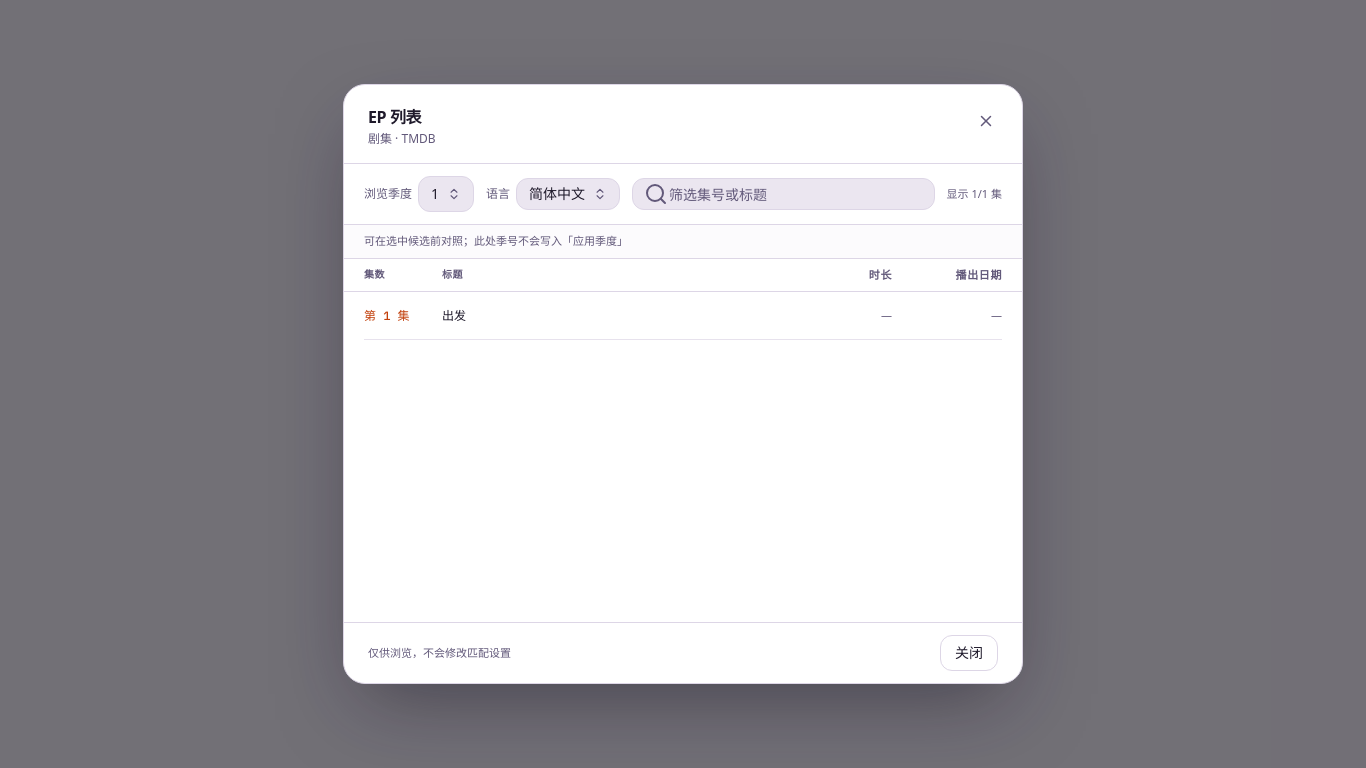
Test: episode browsing › aborts obsolete language requests and ignores a late result even if the loader returns it
The width and height of the screenshot is (1366, 768).
expect the text "出发" is shown: met, box [442,306,466,324]
Click the dropdown named "语言" at point(568, 194), box [516,178,620,210]
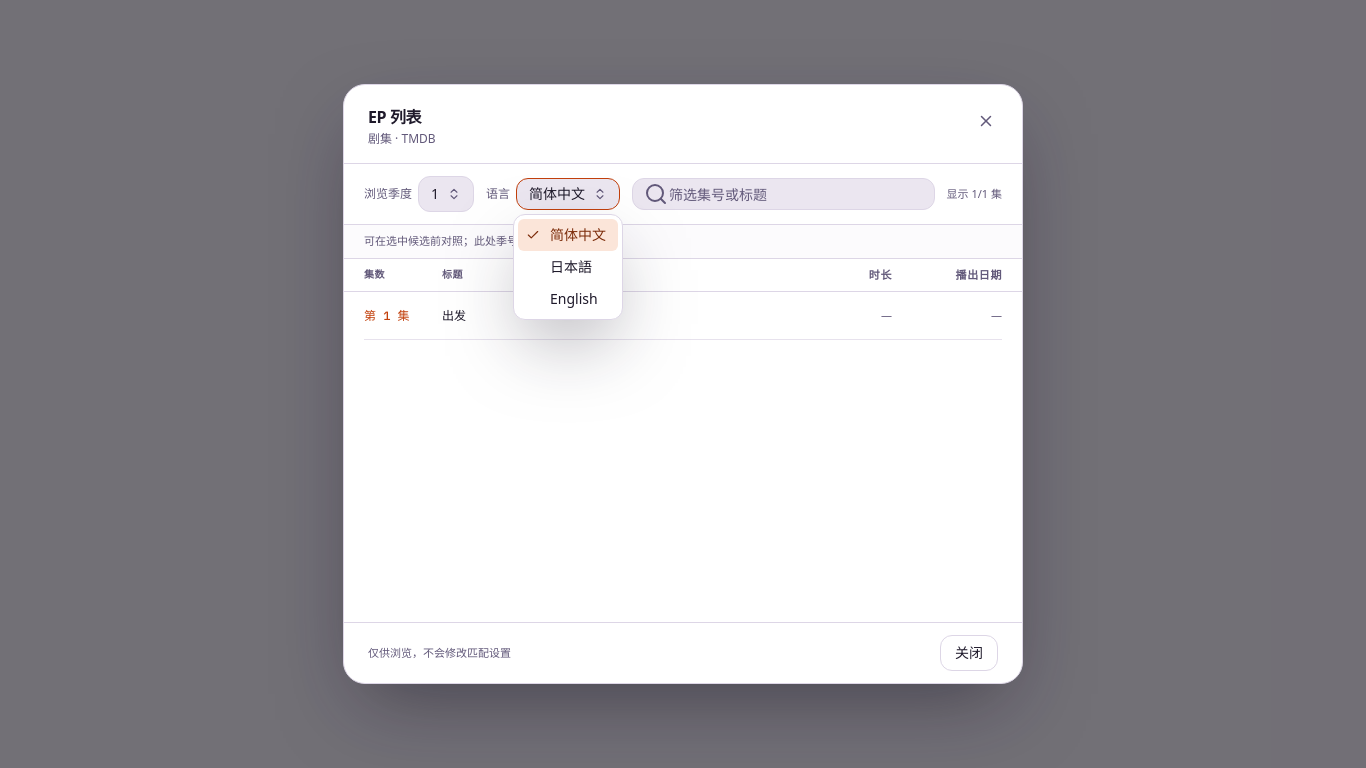
Click the option "日本語" at point(571, 266), box [550,257,592,276]
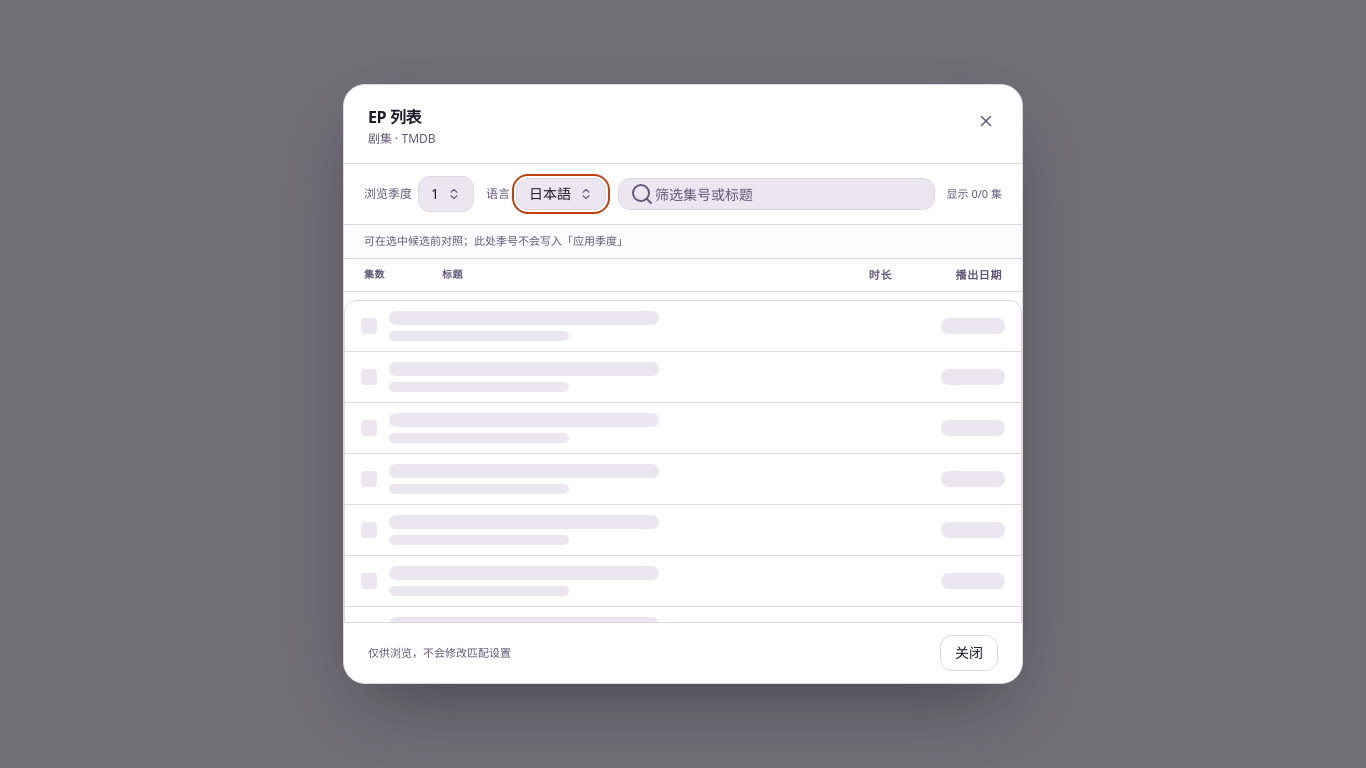
Click the dropdown named "语言" at point(561, 194), box [516,178,606,210]
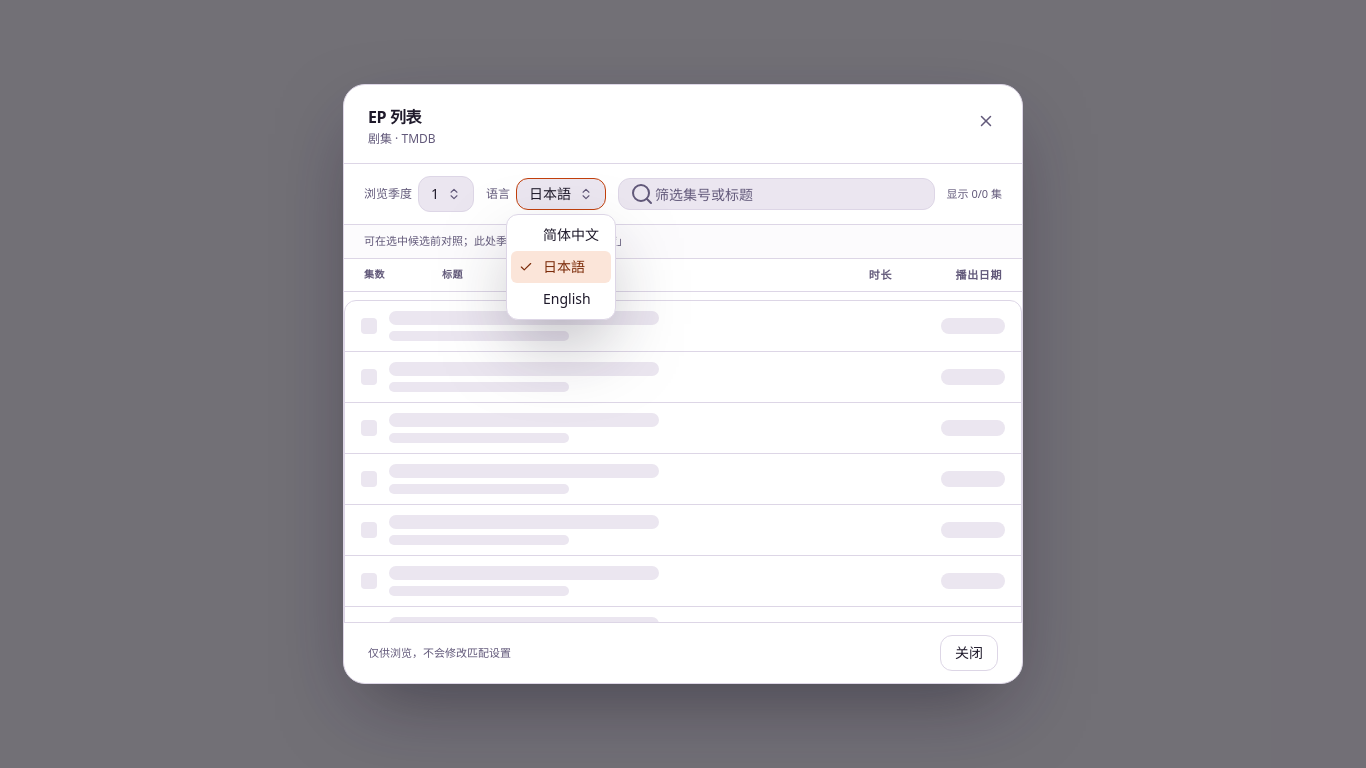
Click the option "English" at point(567, 298), box [543,289,591,308]
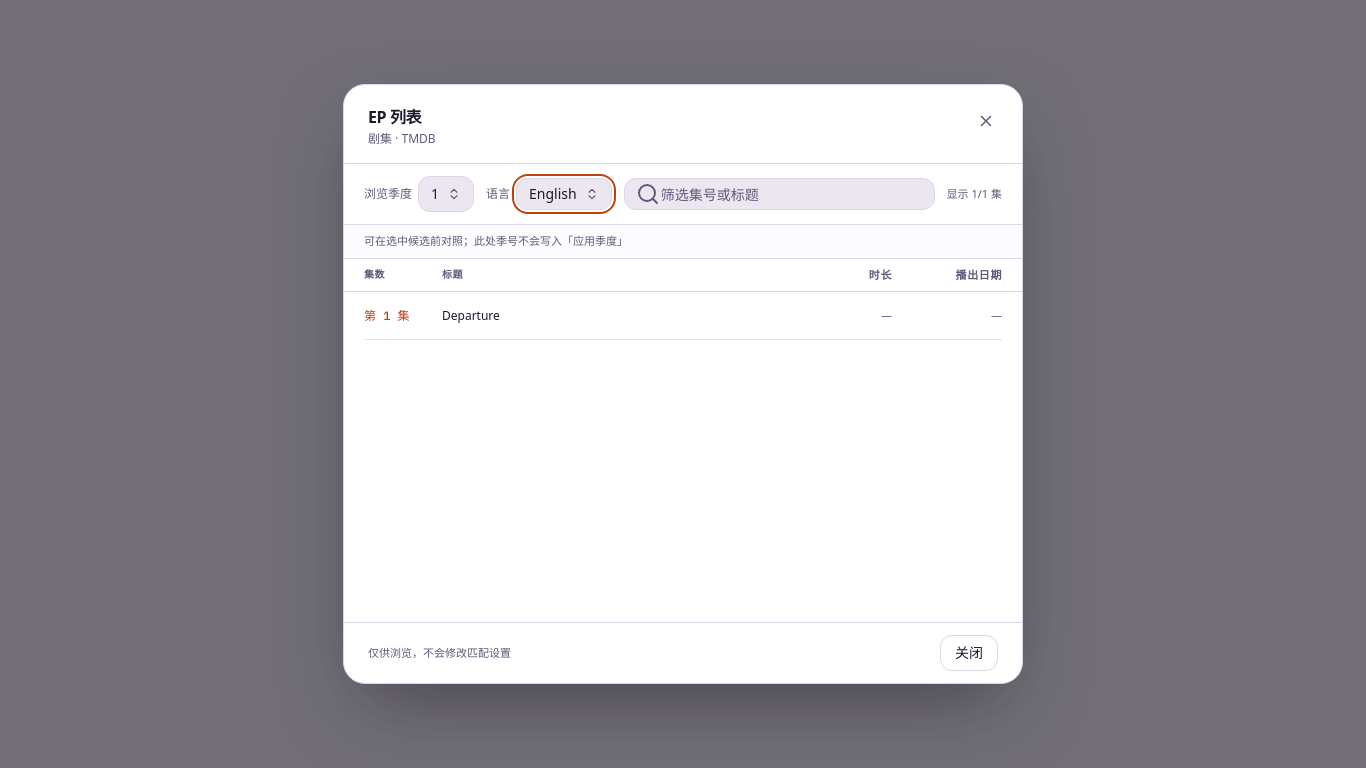
expect the text "Departure" is shown: met, box [442,306,500,324]
